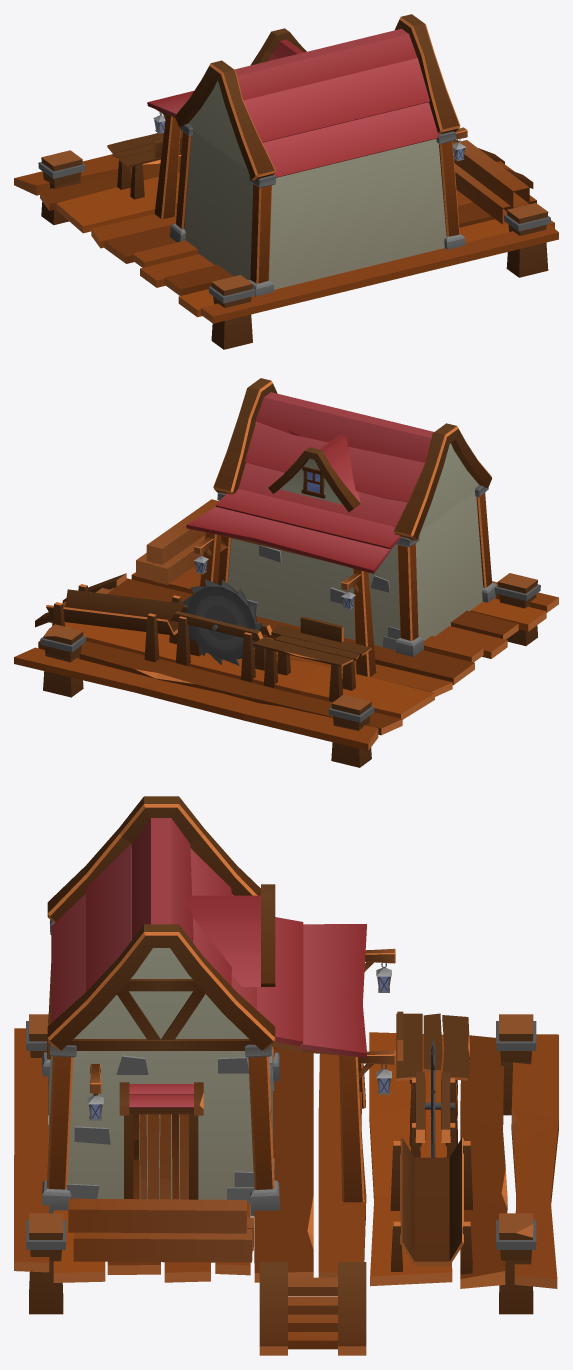
Rendered from sawmill_01.fbx.
The picture shows the model from 3 angles, top to bottom: view 1: azimuth 30°, elevation 25°; view 2: azimuth 150°, elevation 25°; view 3: azimuth 270°, elevation 25°; orthographic projection. The views are drawn at different scales.
Parts seen in each view (by area): view 1: Cube.081; view 2: Cube.081; view 3: Cube.081.
Part boxes in pixels (<box>): Cube.081: <box>14,14,558,349</box>; Cube.081: <box>14,378,558,767</box>; Cube.081: <box>14,796,558,1355</box>.
Size of the model in its own units: 11.74 by 6.46 by 9.76.
